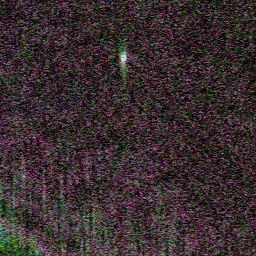Ship: (118, 51, 133, 67)
